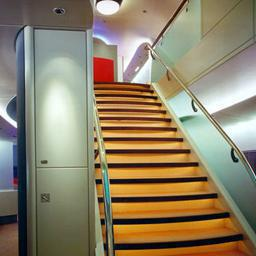Escaleras: (86, 56, 253, 253)
